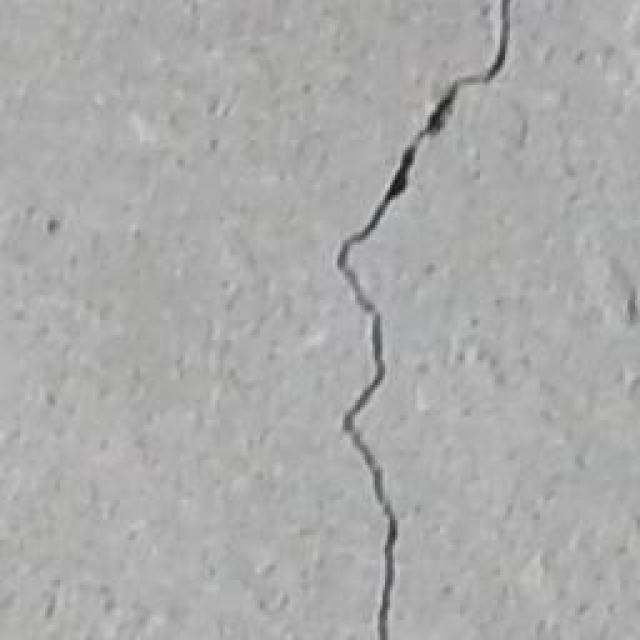concrete-crack: (321, 0, 519, 636)
